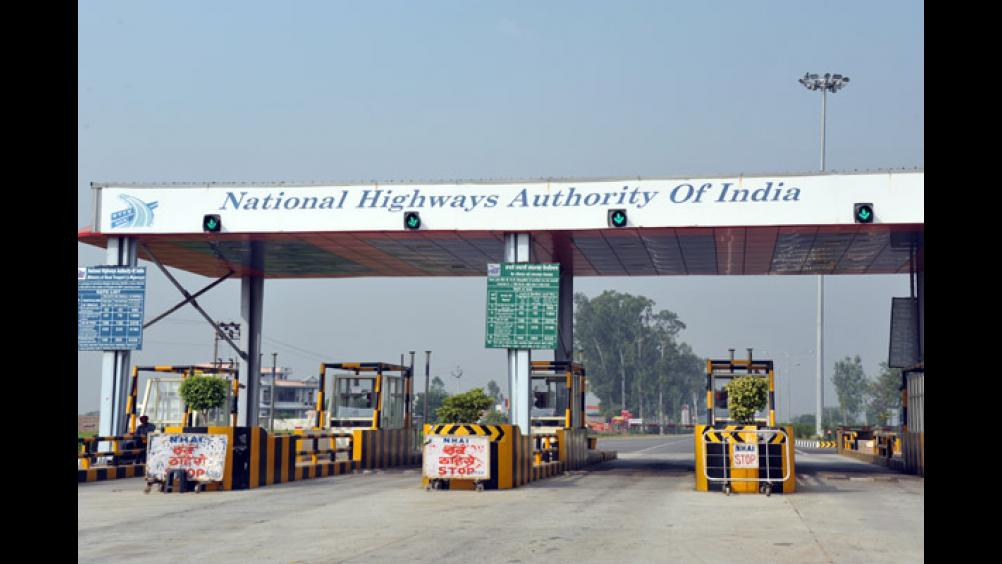toll plaza: (298, 347, 898, 493), (91, 182, 931, 279)
